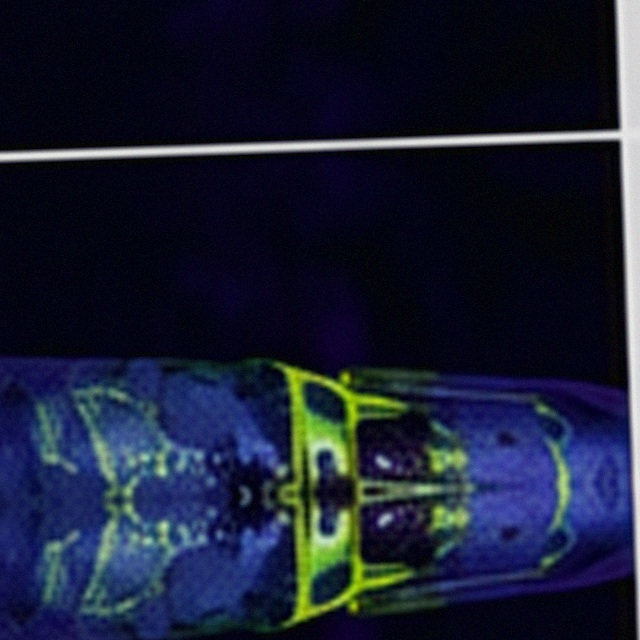hydraulic_oil_leak: (275, 362, 413, 600), (76, 386, 118, 437), (428, 444, 462, 478), (430, 499, 465, 531), (38, 405, 59, 458), (145, 440, 169, 472), (147, 529, 173, 556), (436, 535, 456, 556), (105, 483, 130, 499), (433, 422, 455, 438), (105, 504, 130, 517), (559, 460, 567, 492), (145, 407, 153, 426), (356, 496, 364, 503), (127, 455, 132, 466), (554, 442, 560, 449), (112, 457, 116, 467), (128, 476, 133, 483), (182, 451, 185, 460), (184, 533, 188, 538), (167, 524, 170, 530), (540, 408, 543, 413), (471, 485, 474, 489), (132, 520, 135, 523), (152, 468, 155, 471), (139, 404, 143, 406), (405, 386, 407, 389)
